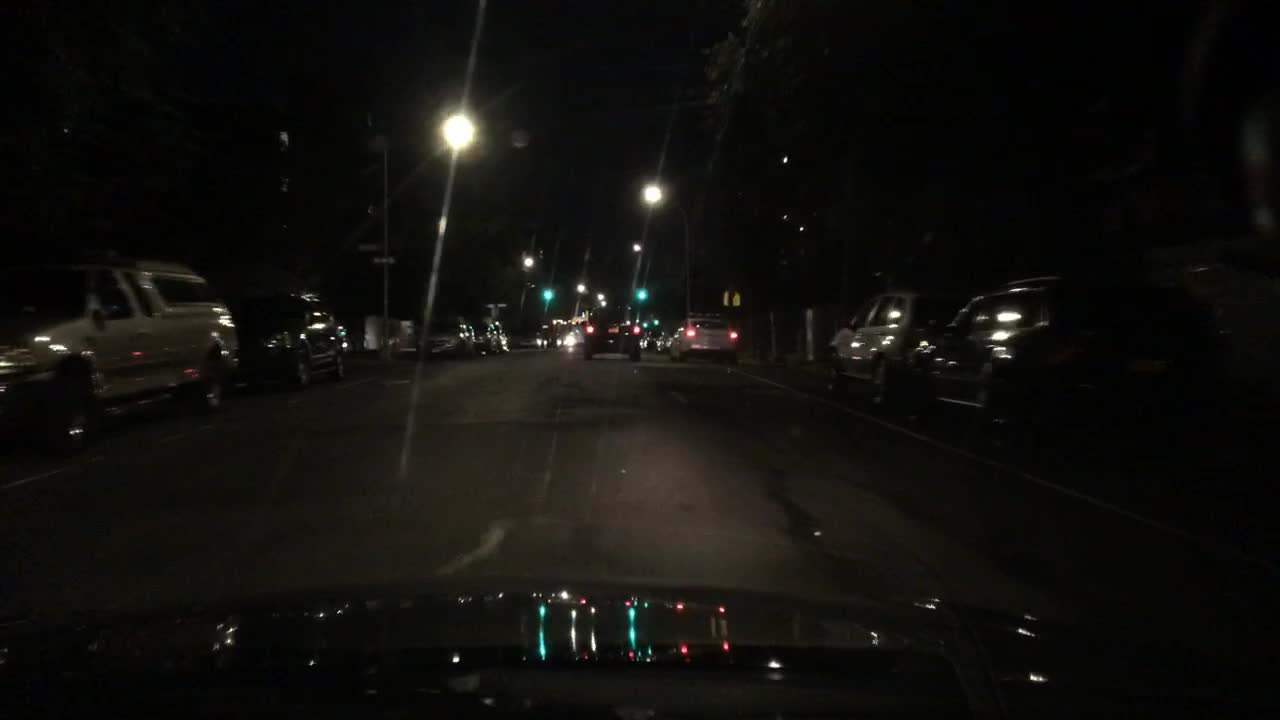car: (863, 255, 1276, 559), (0, 251, 243, 473), (818, 289, 968, 409), (223, 284, 360, 386), (668, 311, 742, 363), (583, 308, 644, 360), (412, 313, 475, 357), (468, 320, 498, 354), (492, 319, 510, 353), (534, 329, 564, 345), (644, 329, 660, 349), (654, 329, 669, 350), (564, 330, 583, 345), (663, 332, 675, 351), (638, 329, 648, 350)
traffic light: (636, 286, 646, 300), (543, 287, 552, 300)
traffic sign: (722, 288, 741, 307)
